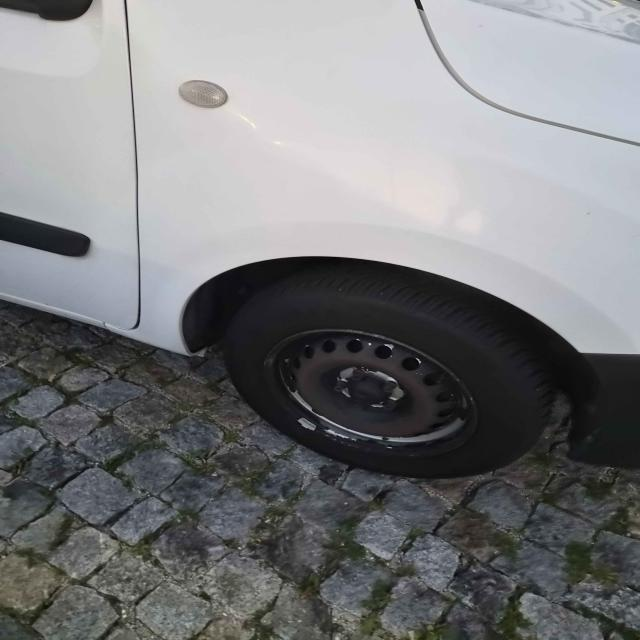jante: (262, 328, 478, 454)
parafuso: (346, 368, 370, 382), (381, 377, 398, 395), (328, 380, 349, 394), (379, 399, 398, 412), (348, 400, 366, 412)
roda: (221, 268, 560, 481)
